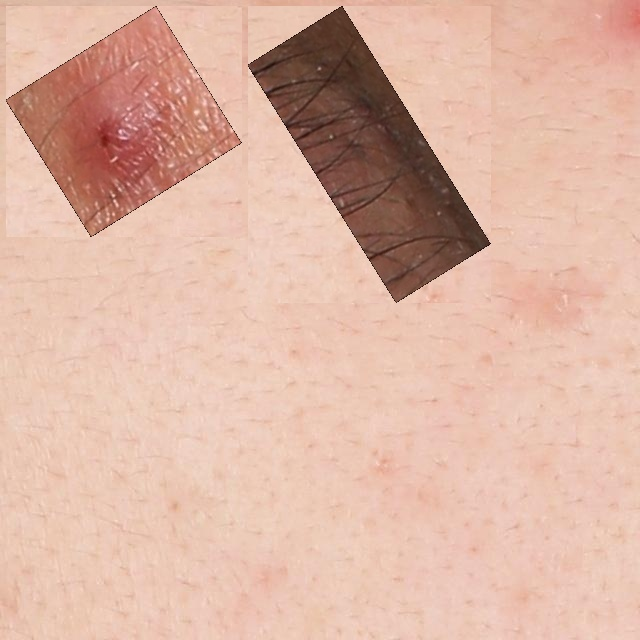nodule: (259, 17, 479, 291), (17, 17, 230, 225)
